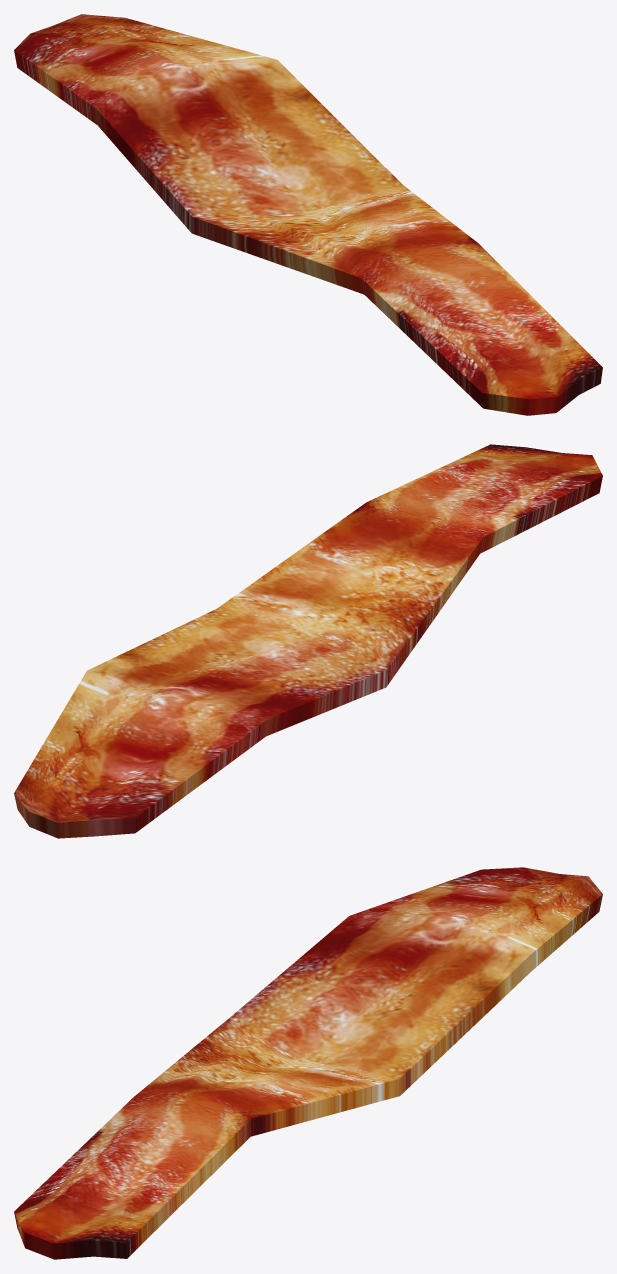
The model's file is baconD.FBX.
3 views of the same model, one above another, from view 1: azimuth 30°, elevation 25°; view 2: azimuth 150°, elevation 25°; view 3: azimuth 330°, elevation 25° (orthographic).
Parts seen in each view (by area): view 1: baconD; view 2: baconD; view 3: baconD.
Boxes of the visible parts, x1,y1,x2,y2 form: baconD: [14, 14, 602, 415]; baconD: [14, 444, 602, 838]; baconD: [14, 867, 602, 1259].
Bounding box in the file's own units: 0.058 × 0.0165 × 0.2633.
